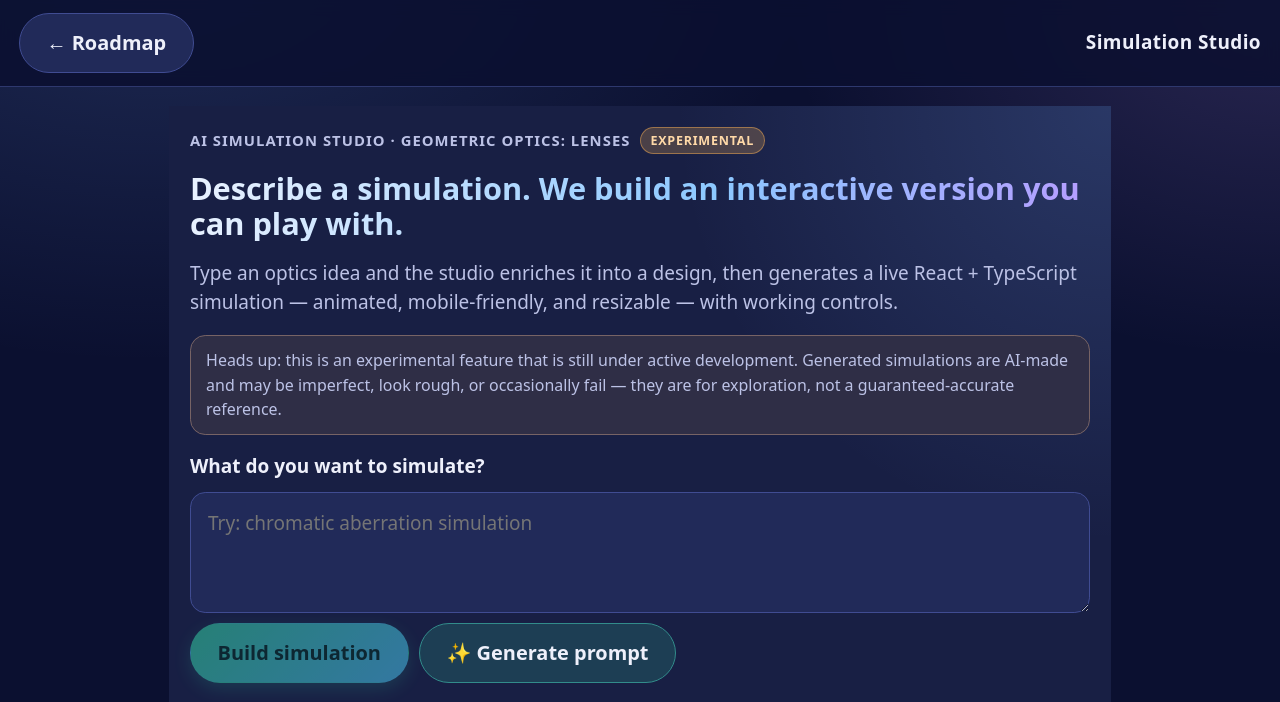
Test: SimulationStudio › cancels an in-progress generation
Type "chromatic aberration" into the text box labelled "What do you want to simulate?". click: (640, 553)
box: [190, 492, 1090, 613]
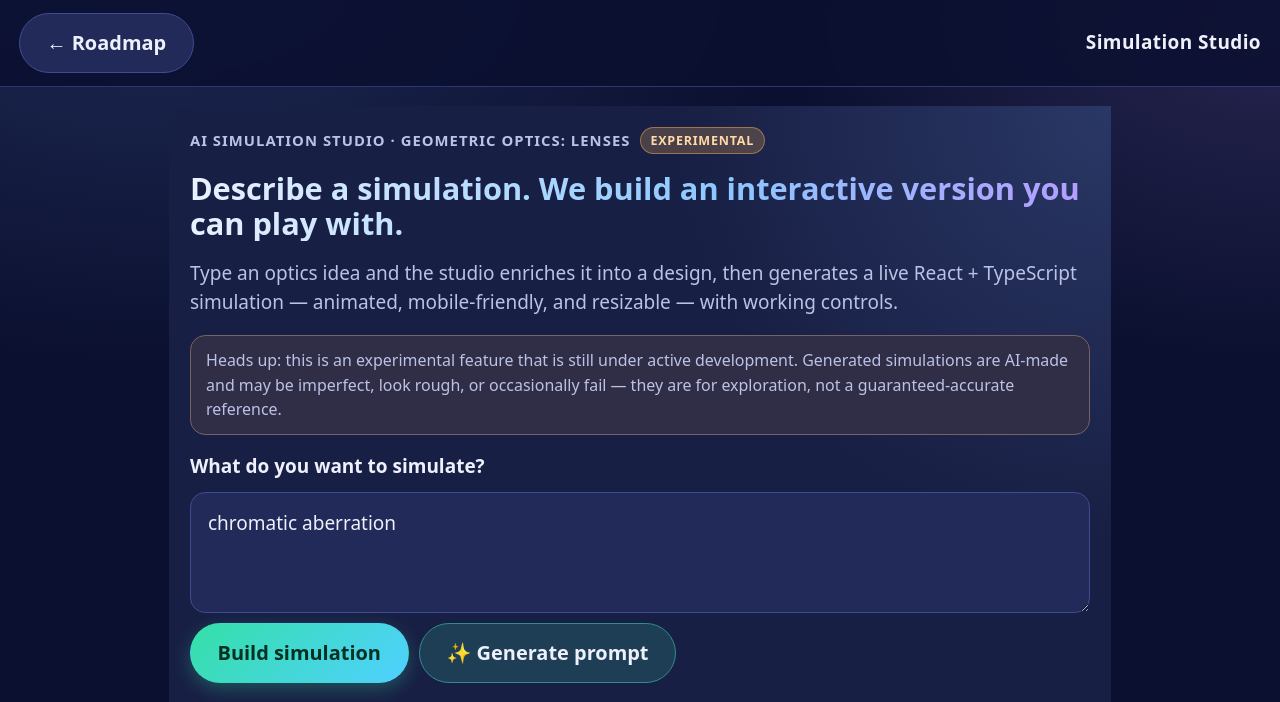
Click the button "Build simulation". click: click(299, 653)
box: [190, 624, 408, 683]
(page scrolled)
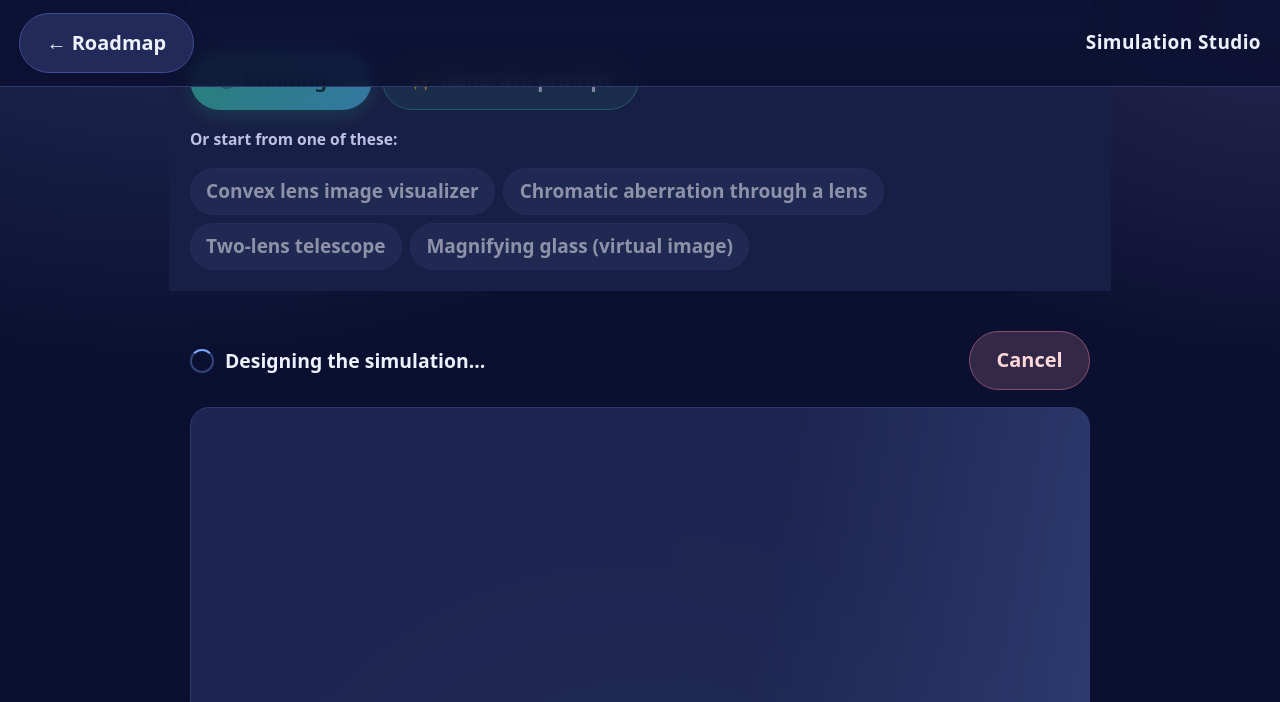
expect the button "Cancel" is shown: met
Click the button "Cancel". click: click(1030, 361)
box: [969, 331, 1090, 390]
(page scrolled)
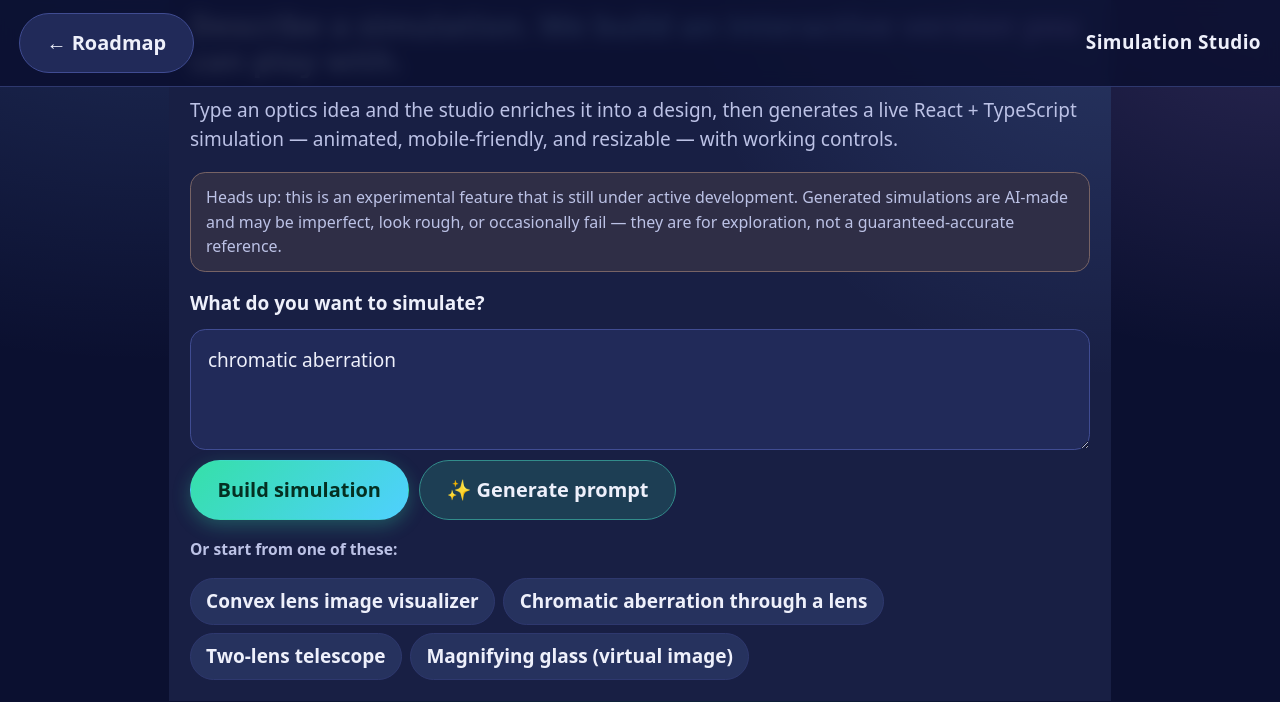
expect the button "Cancel" is gone: met
